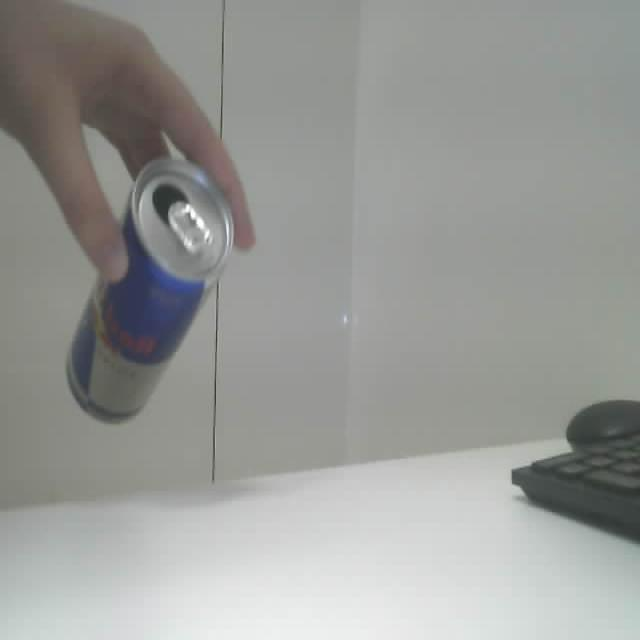redbull can: (67, 158, 232, 421)
